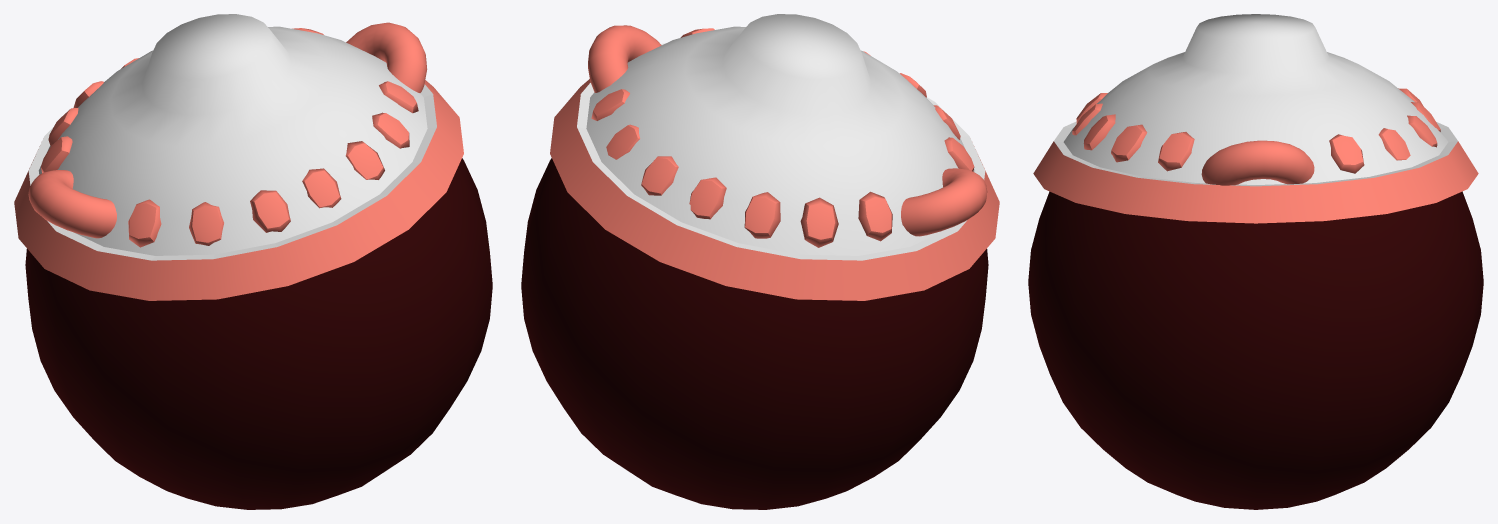
Rendered from bolita5.fbx.
3 renders of one model, left to right at view 1: azimuth 30°, elevation 25°; view 2: azimuth 150°, elevation 25°; view 3: azimuth 270°, elevation 25°, orthographic. The views are drawn at different scales.
Parts seen in each view (by area): view 1: pasted__pasted__pasted__pSphere7, pasted__pasted__pasted__pSphere8, pasted__pasted__pasted__pasted__pTorus4, pasted__pasted__pasted__pTorus4, pasted__pasted__pasted__pasted__pCube1, pasted__pasted__pCube1, pasted__pasted__pasted__pCube1.001, pasted__pasted__pasted__pasted__pasted__pCube1, pasted__pasted__pasted__pasted__pasted__pasted__pCube1, pasted__pasted__pasted__pasted__pasted__pasted__pasted__pCub, pasted__pasted__pasted__pasted__pasted__pasted__pasted__ea5d, pasted__pasted__pasted__pasted__pasted__pasted__pasted__c180; view 2: pasted__pasted__pasted__pSphere7, pasted__pasted__pasted__pSphere8, pasted__pasted__pasted__pasted__pTorus4, pasted__pasted__pasted__pTorus4, pasted__pasted__pasted__pasted__pasted__pasted__pasted__c18., pasted__pasted__pasted__pasted__pasted__pasted__pasted__pCu., pasted__pasted__pasted__pasted__pasted__pasted__pasted__ea5d, pasted__pasted__pasted__pasted__pasted__pasted__pCube1.001, pasted__pasted__pasted__pasted__pasted__pCube1.001, pasted__pasted__pasted__pasted__pCube1.001, pasted__pasted__pasted__pCube1, pasted__pasted__pCube1; view 3: pasted__pasted__pasted__pSphere7, pasted__pasted__pasted__pSphere8, pasted__pasted__pasted__pTorus4, pasted__pasted__pasted__pasted__pasted__pasted__pasted__c180, pasted__pasted__pasted__pCube1, pasted__pasted__pasted__pasted__pasted__pasted__pasted__pCub, pasted__pasted__pasted__pasted__pCube1.001, pasted__pasted__pasted__pasted__pasted__pasted__pCube1.
Part boxes in pixels (<box>): pasted__pasted__pasted__pSphere7: <box>25,158,492,509</box>; pasted__pasted__pasted__pSphere8: <box>14,14,463,300</box>; pasted__pasted__pasted__pasted__pTorus4: <box>28,170,116,238</box>; pasted__pasted__pasted__pTorus4: <box>346,22,427,92</box>; pasted__pasted__pasted__pasted__pCube1: <box>250,190,290,232</box>; pasted__pasted__pCube1: <box>128,199,161,247</box>; pasted__pasted__pasted__pCube1.001: <box>189,202,223,245</box>; pasted__pasted__pasted__pasted__pasted__pCube1: <box>302,168,341,208</box>; pasted__pasted__pasted__pasted__pasted__pasted__pCube1: <box>345,141,384,179</box>; pasted__pasted__pasted__pasted__pasted__pasted__pasted__pCub: <box>372,112,409,148</box>; pasted__pasted__pasted__pasted__pasted__pasted__pasted__ea5d: <box>41,136,72,173</box>; pasted__pasted__pasted__pasted__pasted__pasted__pasted__c180: <box>379,81,418,113</box>; pasted__pasted__pasted__pSphere7: <box>521,158,988,509</box>; pasted__pasted__pasted__pSphere8: <box>550,14,999,300</box>; pasted__pasted__pasted__pasted__pTorus4: <box>901,168,987,236</box>; pasted__pasted__pasted__pTorus4: <box>588,25,661,92</box>; pasted__pasted__pasted__pasted__pasted__pasted__pasted__c18.: <box>800,197,838,247</box>; pasted__pasted__pasted__pasted__pasted__pasted__pasted__pCu.: <box>744,192,780,238</box>; pasted__pasted__pasted__pasted__pasted__pasted__pasted__ea5d: <box>858,191,892,241</box>; pasted__pasted__pasted__pasted__pasted__pasted__pCube1.001: <box>689,177,726,219</box>; pasted__pasted__pasted__pasted__pasted__pCube1.001: <box>641,156,678,195</box>; pasted__pasted__pasted__pasted__pCube1.001: <box>606,124,640,159</box>; pasted__pasted__pasted__pCube1: <box>591,89,629,120</box>; pasted__pasted__pCube1: <box>944,137,974,171</box>; pasted__pasted__pasted__pSphere7: <box>1028,191,1483,509</box>; pasted__pasted__pasted__pSphere8: <box>1033,14,1478,223</box>; pasted__pasted__pasted__pTorus4: <box>1201,140,1314,185</box>; pasted__pasted__pasted__pasted__pasted__pasted__pasted__c180: <box>1158,132,1194,171</box>; pasted__pasted__pasted__pCube1: <box>1329,134,1364,173</box>; pasted__pasted__pasted__pasted__pasted__pasted__pasted__pCub: <box>1111,124,1147,162</box>; pasted__pasted__pasted__pasted__pCube1.001: <box>1378,128,1410,160</box>; pasted__pasted__pasted__pasted__pasted__pasted__pCube1: <box>1083,114,1115,150</box>.
Bounding box in the file's own units: 210 × 218 × 200.
